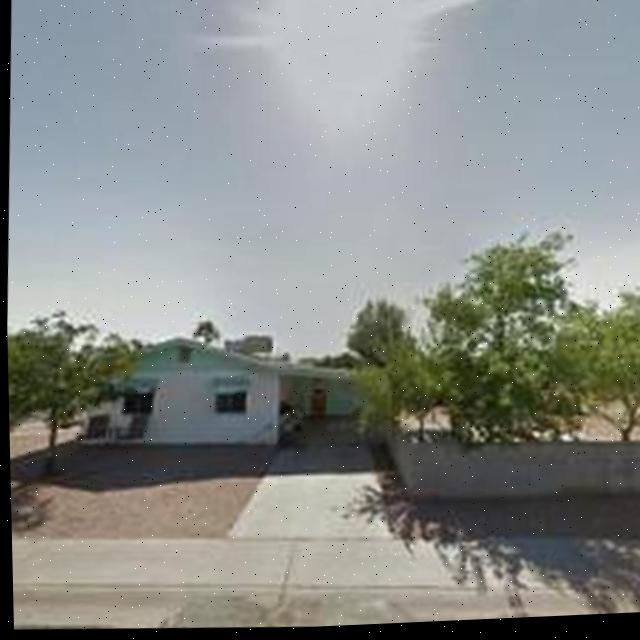building: (72, 320, 391, 457)
